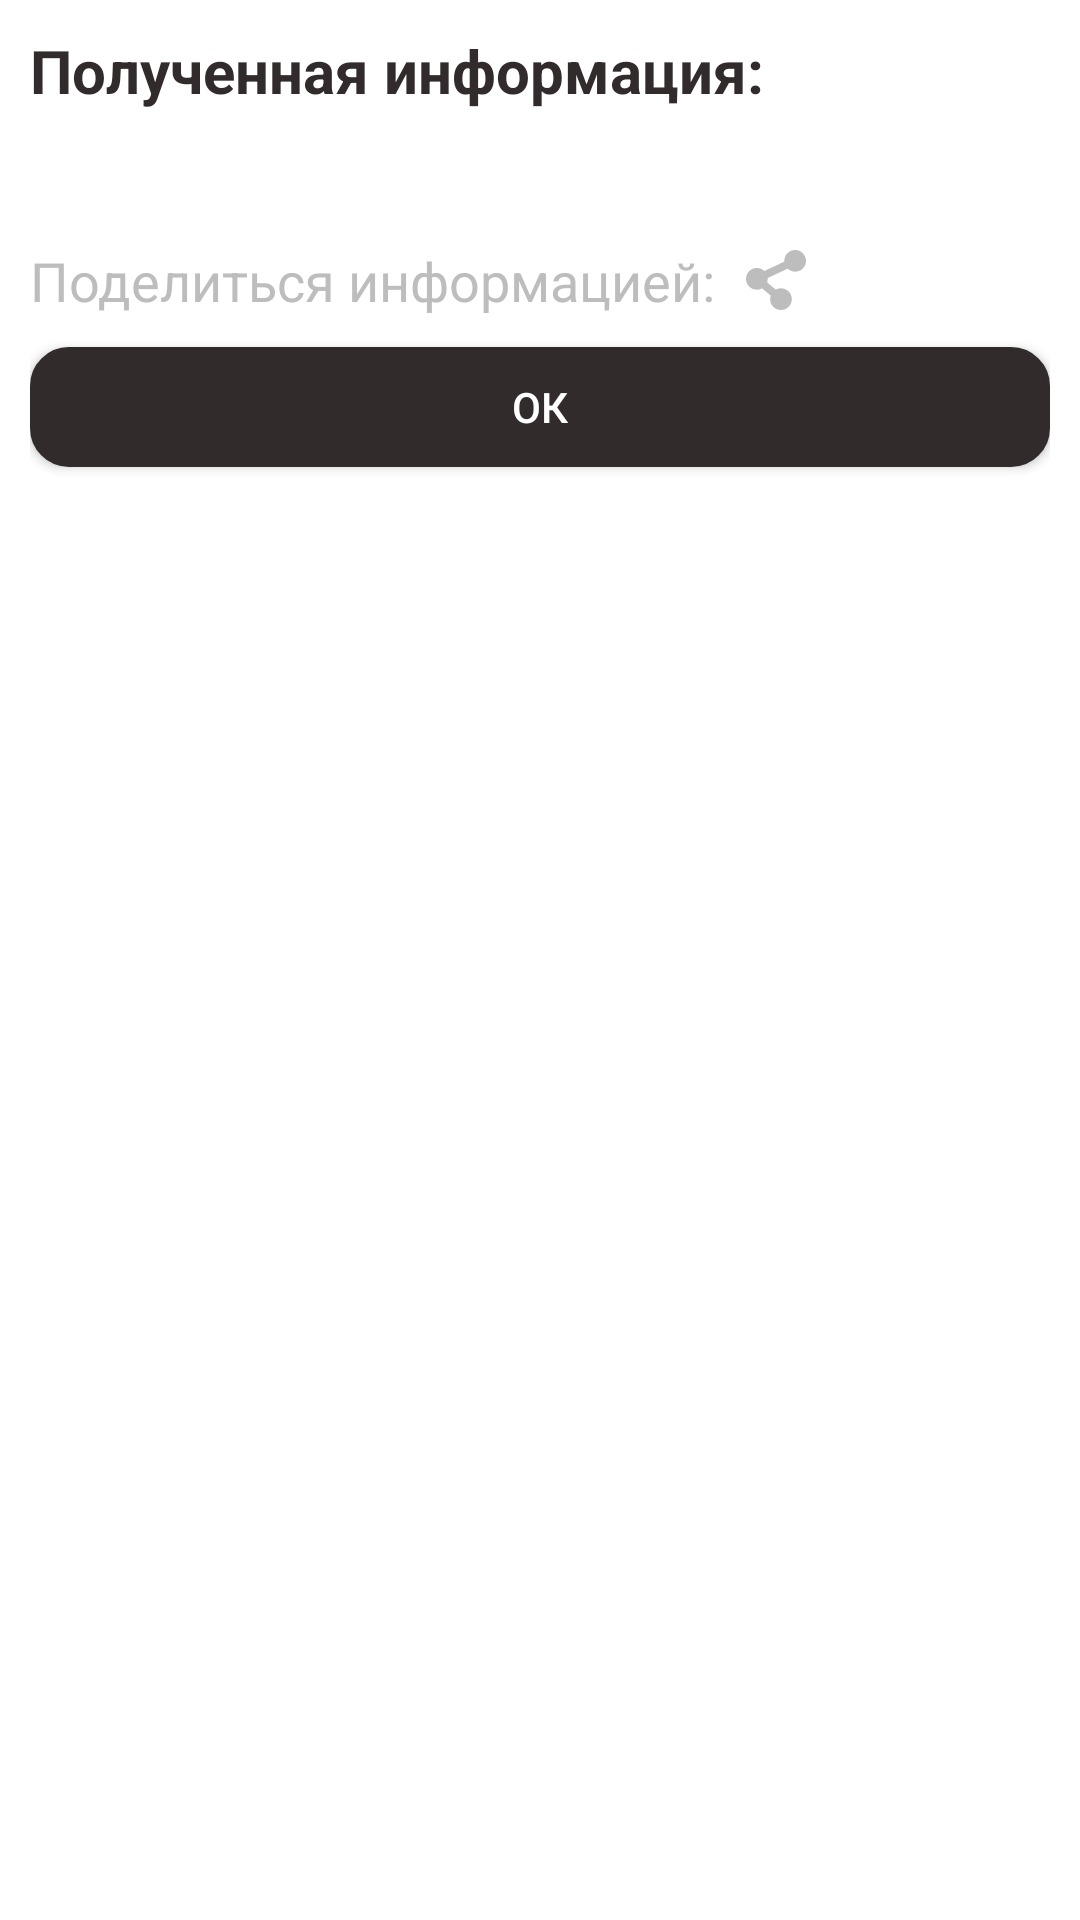

Screen size 1080x1920. Icon name, then its center in pixels as [x,y]:
share: [776,280]
